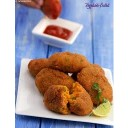cutlet: (44, 83, 92, 113), (80, 69, 113, 102), (33, 68, 72, 92), (51, 51, 87, 70)
